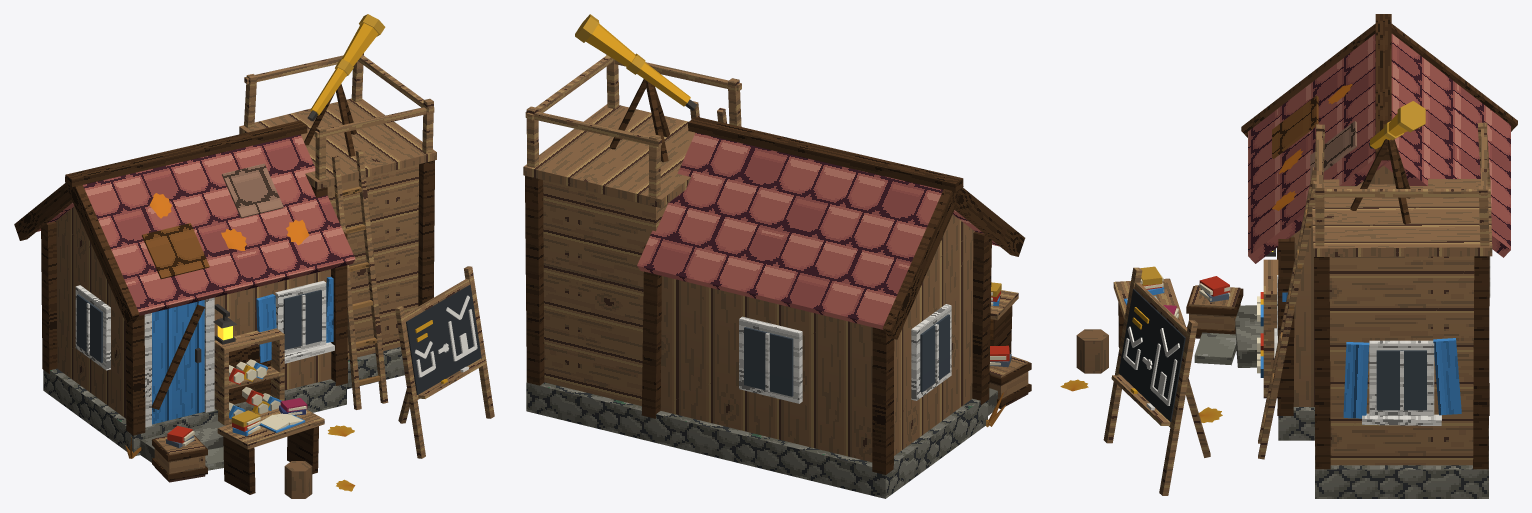
Rendered from academy.glb.
3 views of the same model, side by side, from view 1: azimuth 30°, elevation 25°; view 2: azimuth 150°, elevation 25°; view 3: azimuth 270°, elevation 25° (orthographic). The views are drawn at different scales.
Parts seen in each view (by area): view 1: academy; view 2: academy; view 3: academy.
Part boxes in pixels (x1,y1,x2,y2): academy: (14,14,494,498); academy: (523,14,1031,498); academy: (1060,14,1517,498).
Bounding box in the file's own units: 5.62 × 5.25 × 5.63.
31 materials, 14 textured.
